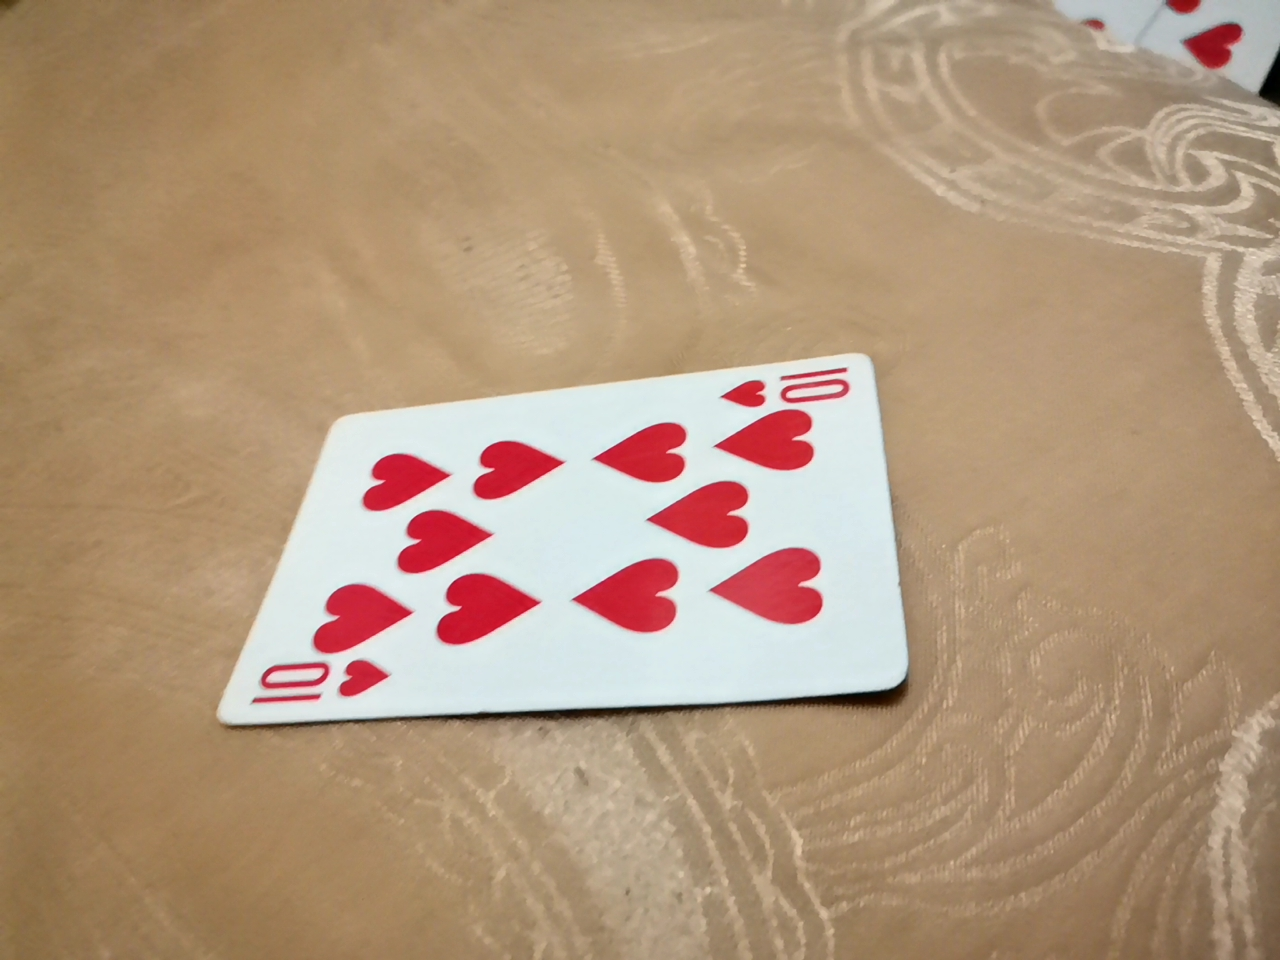hx 10: (238, 339, 913, 729)
